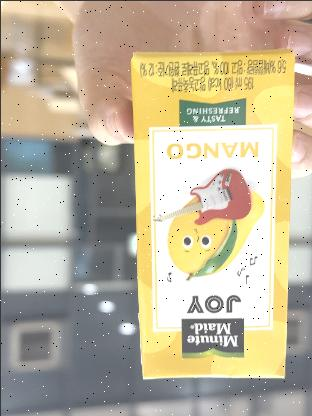Others: (130, 47, 292, 380)
